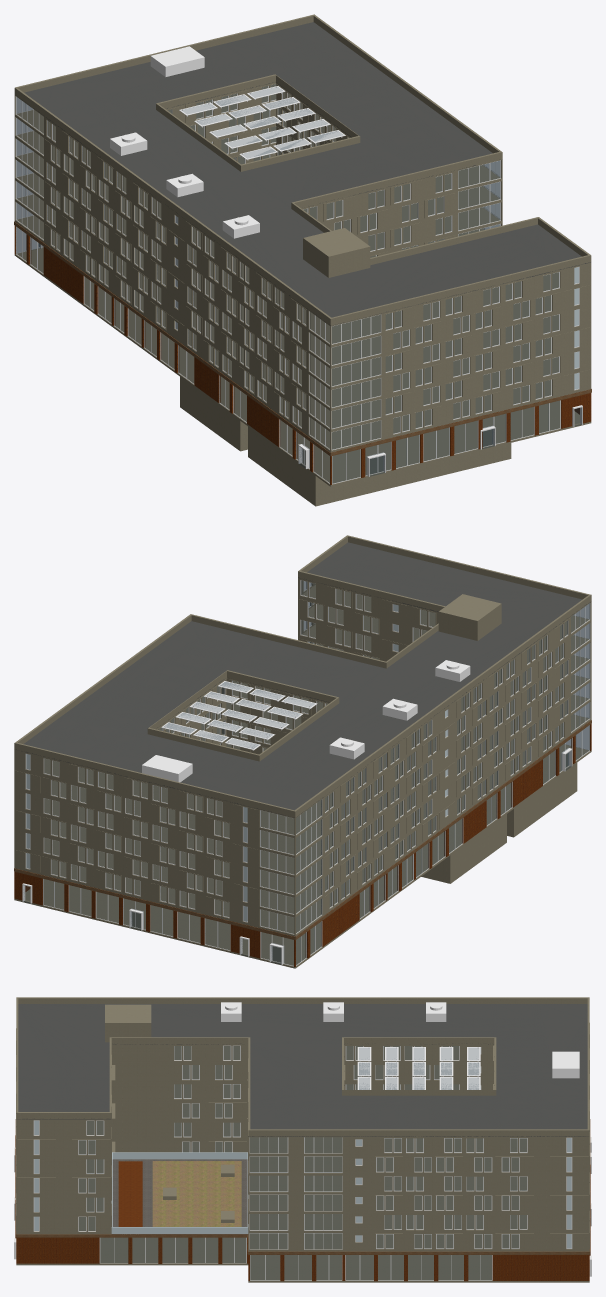
The model's file is blackwell.glb.
The picture shows the model from 3 angles, top to bottom: view 1: azimuth 30°, elevation 25°; view 2: azimuth 150°, elevation 25°; view 3: azimuth 270°, elevation 25°; orthographic projection. The views are drawn at different scales.
Visible parts, largest first — view 1: roof_deck, parapet, slab_L1, walls_ext_L7, slab_L7, slab_L6, slab_L5, walls_ext_L5, walls_ext_B1, walls_ext_L6, walls_ext_L3, slab_L4 (+27 smaller); view 2: roof_deck, parapet, slab_L1, walls_ext_L7, walls_ext_L5, walls_ext_L6, slab_L6, slab_L7, slab_L5, walls_ext_L3, walls_ext_L4, walls_ext_L2 (+23 smaller); view 3: roof_deck, parapet, slab_L1, walls_ext_L7, walls_ext_L5, walls_ext_L3, podium_lawn, walls_ext_L6, slab_L7, walls_ext_L1, slab_L6, walls_ext_L4 (+61 smaller).
Part boxes in pixels (left/top/right/bottom): roof_deck: left=15, top=22, right=590, bottom=325; parapet: left=14, top=14, right=591, bottom=325; slab_L1: left=14, top=247, right=591, bottom=486; walls_ext_L7: left=14, top=82, right=591, bottom=345; slab_L7: left=14, top=84, right=591, bottom=346; slab_L6: left=14, top=108, right=591, bottom=367; slab_L5: left=14, top=126, right=591, bottom=389; walls_ext_L5: left=14, top=124, right=591, bottom=387; walls_ext_B1: left=180, top=377, right=511, bottom=504; walls_ext_L6: left=14, top=106, right=591, bottom=366; walls_ext_L3: left=14, top=179, right=591, bottom=429; slab_L4: left=14, top=153, right=591, bottom=410; roof_deck: left=16, top=542, right=591, bottom=817; parapet: left=14, top=535, right=591, bottom=817; slab_L1: left=14, top=744, right=591, bottom=968; walls_ext_L7: left=14, top=578, right=591, bottom=835; walls_ext_L5: left=14, top=617, right=591, bottom=875; walls_ext_L6: left=14, top=597, right=591, bottom=855; slab_L6: left=14, top=604, right=591, bottom=857; slab_L7: left=14, top=585, right=591, bottom=837; slab_L5: left=14, top=624, right=591, bottom=877; walls_ext_L3: left=14, top=680, right=591, bottom=915; walls_ext_L4: left=14, top=637, right=591, bottom=895; walls_ext_L2: left=14, top=700, right=591, bottom=934; roof_deck: left=16, top=1004, right=588, bottom=1136; parapet: left=16, top=997, right=589, bottom=1136; slab_L1: left=16, top=1237, right=589, bottom=1282; walls_ext_L7: left=16, top=1044, right=589, bottom=1153; walls_ext_L5: left=16, top=1082, right=589, bottom=1192; walls_ext_L3: left=16, top=1121, right=589, bottom=1230; podium_lawn: left=152, top=1161, right=241, bottom=1226; walls_ext_L6: left=16, top=1063, right=589, bottom=1173; slab_L7: left=16, top=1045, right=589, bottom=1155; walls_ext_L1: left=16, top=1237, right=589, bottom=1280; slab_L6: left=16, top=1065, right=589, bottom=1174; walls_ext_L4: left=16, top=1101, right=589, bottom=1211.
Bounding box in the file's own units: 46.44 × 31.3 × 84.64.
14 materials, 10 textured.
